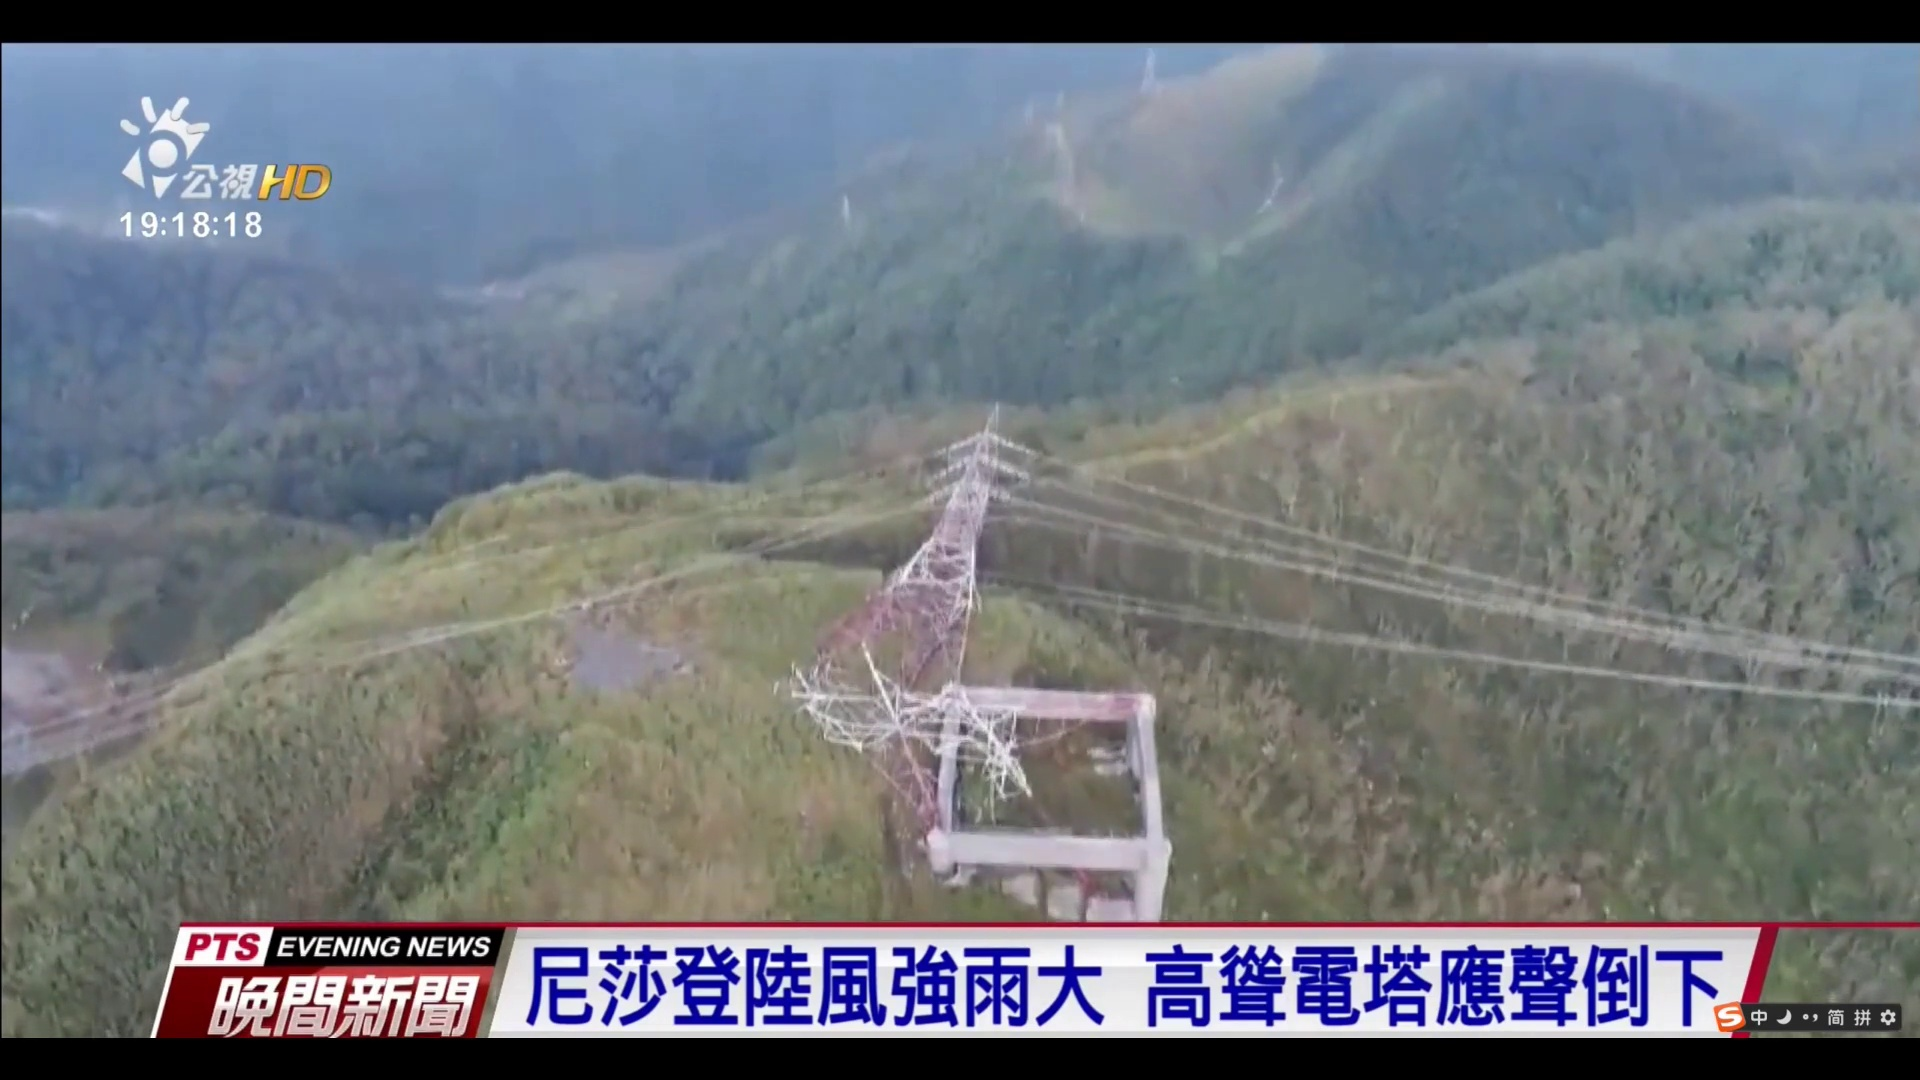tower_down: (796, 372, 1033, 774)
